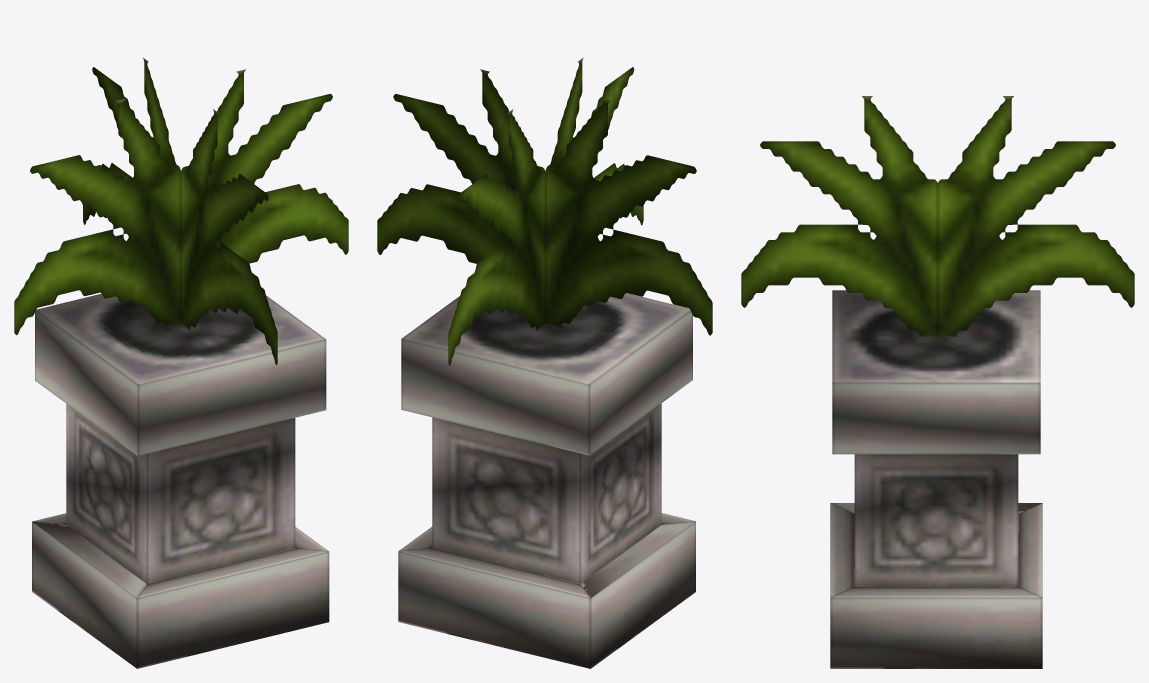
3 renders of one model, left to right at view 1: azimuth 30°, elevation 25°; view 2: azimuth 150°, elevation 25°; view 3: azimuth 270°, elevation 25°, orthographic.
Visible parts, largest first — view 1: T1L2M009_16; view 2: T1L2M009_16; view 3: T1L2M009_16.
Part boxes in pixels (x1,y1,x2,y2): T1L2M009_16: [14, 58, 348, 668]; T1L2M009_16: [377, 57, 712, 668]; T1L2M009_16: [741, 96, 1134, 668].
Size of the model in its own units: 1.69 by 2.51 by 1.7.
